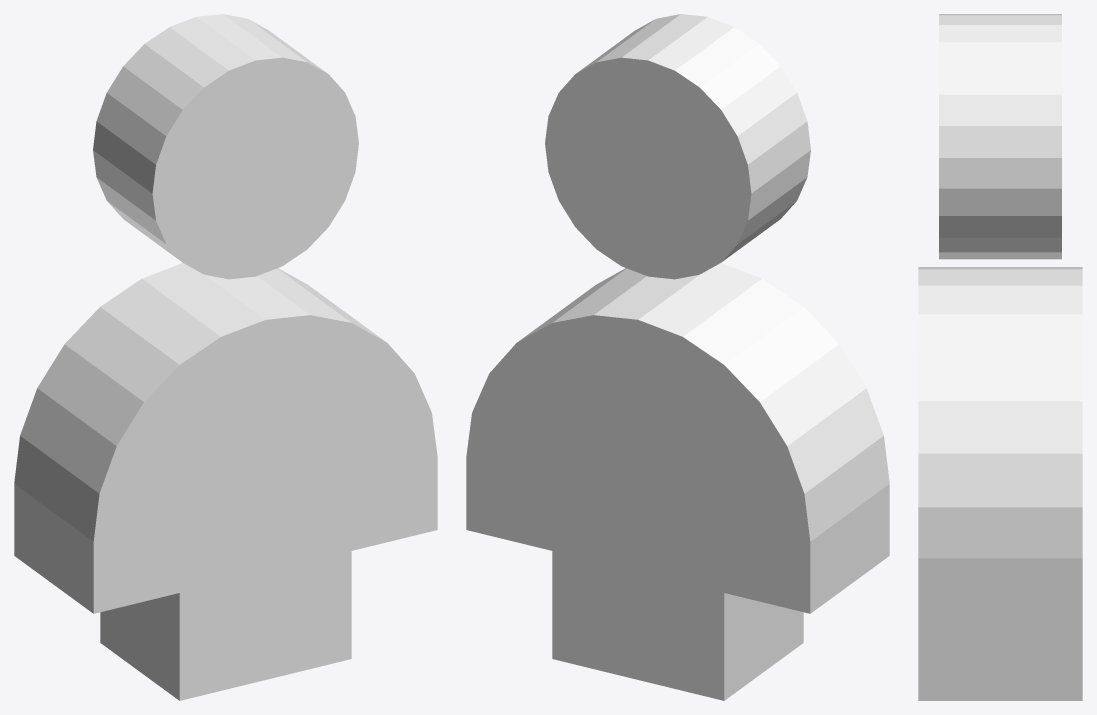
The model's file is Player.fbx.
The picture shows the model from 3 angles, left to right: view 1: azimuth 30°, elevation 25°; view 2: azimuth 150°, elevation 25°; view 3: azimuth 270°, elevation 25°; orthographic projection. The views are drawn at different scales.
Visible parts, largest first — view 1: Cube; view 2: Cube; view 3: Cube.
Part boxes in pixels (bbox=[...]): Cube: bbox=[14, 14, 437, 700]; Cube: bbox=[466, 14, 889, 700]; Cube: bbox=[918, 14, 1082, 700].
Size of the model in its own units: 200 by 340 by 80.
